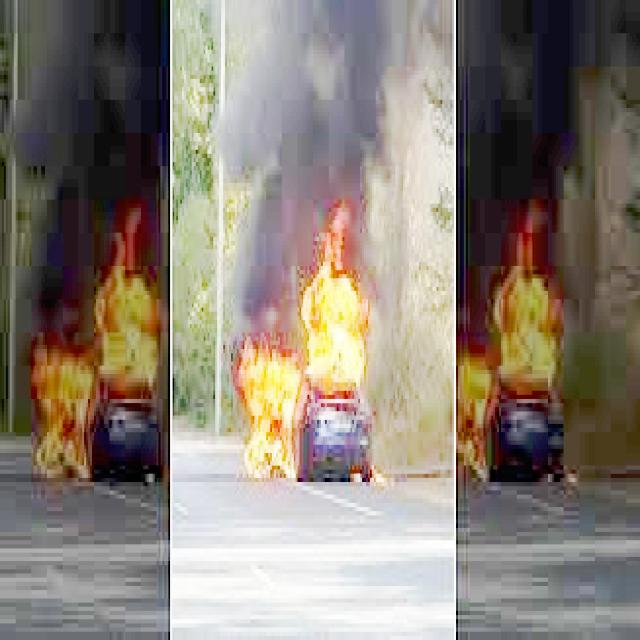api: (236, 222, 381, 492)
